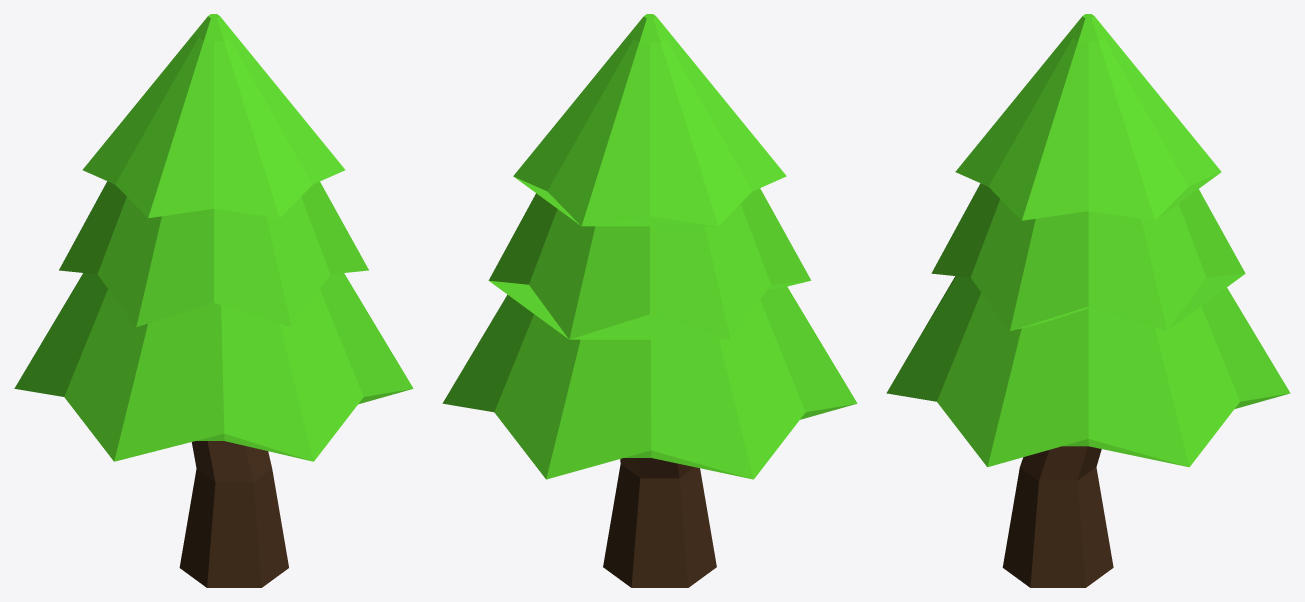
File: Iglak2.fbx
3 renders of one model, left to right at view 1: azimuth 30°, elevation 25°; view 2: azimuth 150°, elevation 25°; view 3: azimuth 270°, elevation 25°, orthographic. The views are drawn at different scales.
Visible parts, largest first — view 1: Walec.003; view 2: Walec.003; view 3: Walec.003.
Part boxes in pixels (x1,y1,x2,y2): Walec.003: (14,14,413,587); Walec.003: (442,14,857,587); Walec.003: (886,14,1290,587).
Bounding box in the file's own units: 450 × 779 × 520.
